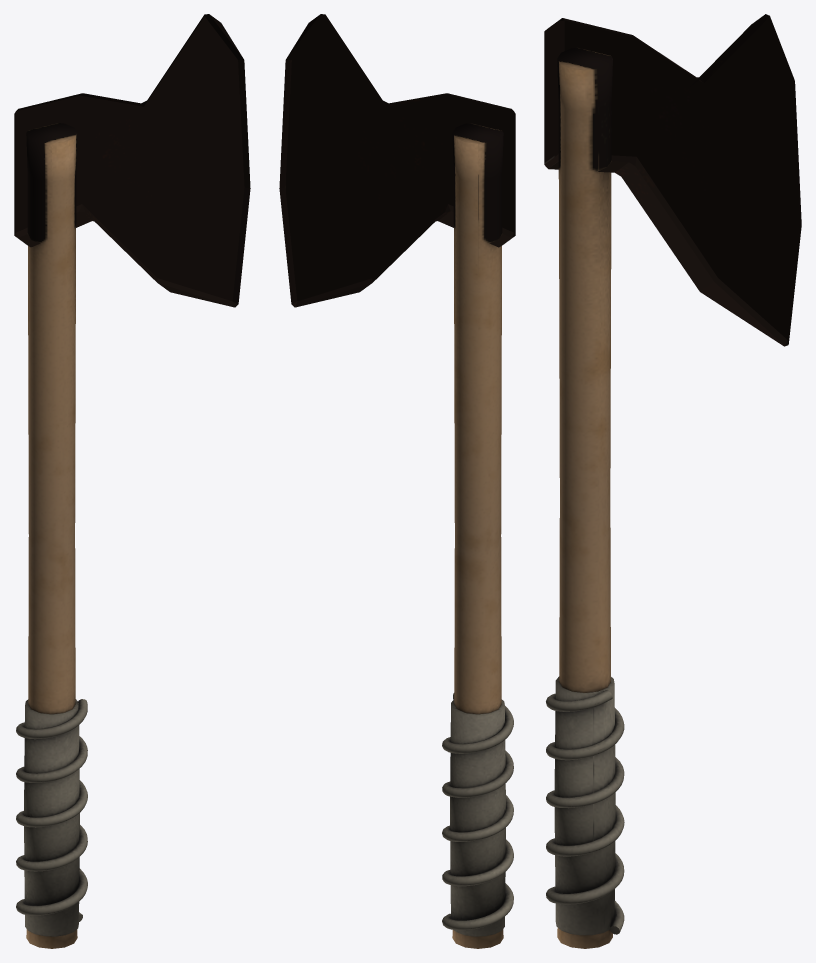
Rendered from arma_machado_mao_enferrujada.glb.
3 views of the same model, side by side, from view 1: azimuth 30°, elevation 25°; view 2: azimuth 150°, elevation 25°; view 3: azimuth 330°, elevation 25° (orthographic). The views are drawn at different scales.
Visible parts, largest first — view 1: arma_machado_mao_enferrujada; view 2: arma_machado_mao_enferrujada; view 3: arma_machado_mao_enferrujada.
Part boxes in pixels (x1,y1,x2,y2): arma_machado_mao_enferrujada: [14, 14, 250, 948]; arma_machado_mao_enferrujada: [279, 14, 515, 948]; arma_machado_mao_enferrujada: [544, 14, 801, 948].
Size of the model in its own units: 0.1852 by 0.6777 by 0.0504.
1 material, 1 textured.
